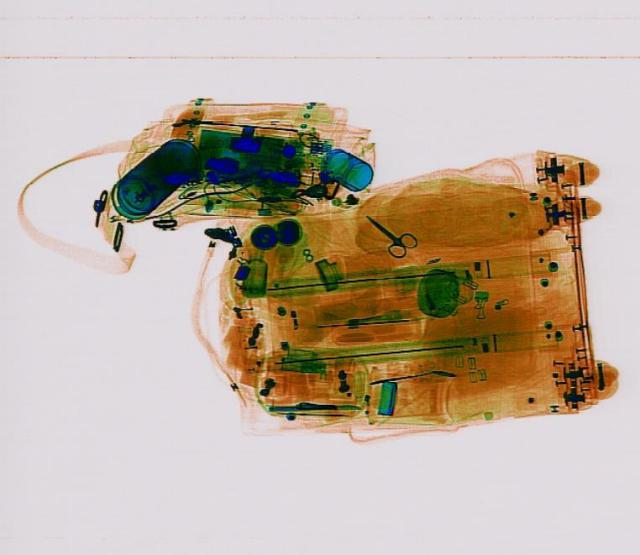Scissors: (352, 204, 422, 259)
